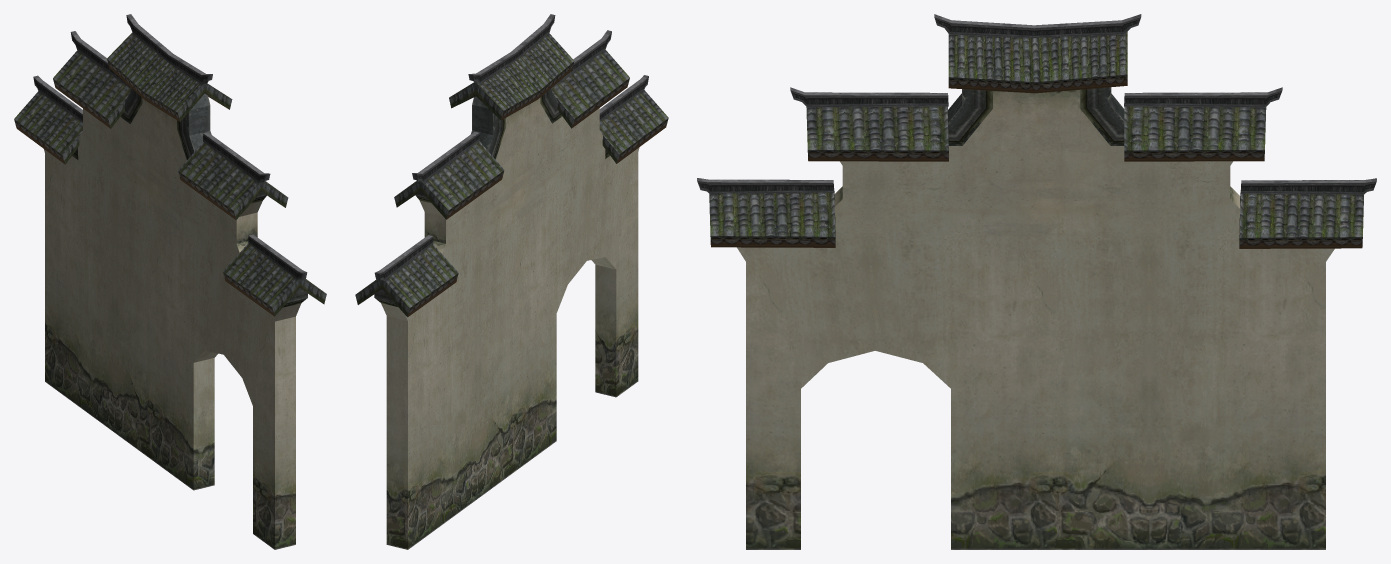
File: qiang_dw_22.fbx
The picture shows the model from 3 angles, left to right: view 1: azimuth 30°, elevation 25°; view 2: azimuth 150°, elevation 25°; view 3: azimuth 270°, elevation 25°; orthographic projection. The views are drawn at different scales.
Visible parts, largest first — view 1: qiang_dw_22; view 2: qiang_dw_22; view 3: qiang_dw_22.
Boxes of the visible parts, x1,y1,x2,y2 form: qiang_dw_22: (14,14,326,549); qiang_dw_22: (355,14,668,549); qiang_dw_22: (697,14,1376,549).
Size of what is drawn, in the model's own units: 208 by 1517 by 1770.
